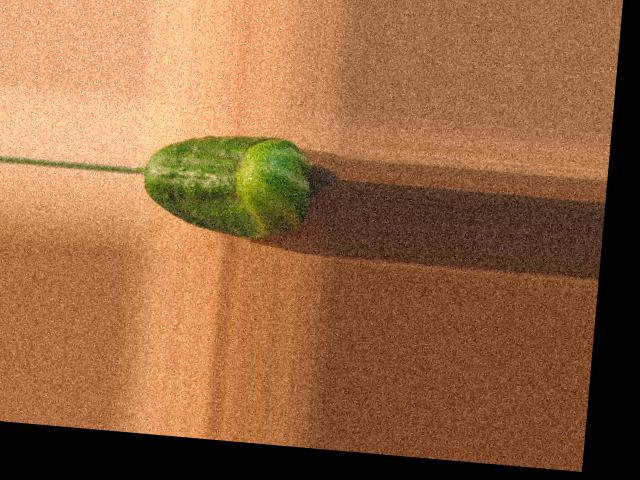cucumber: (138, 125, 314, 242)
